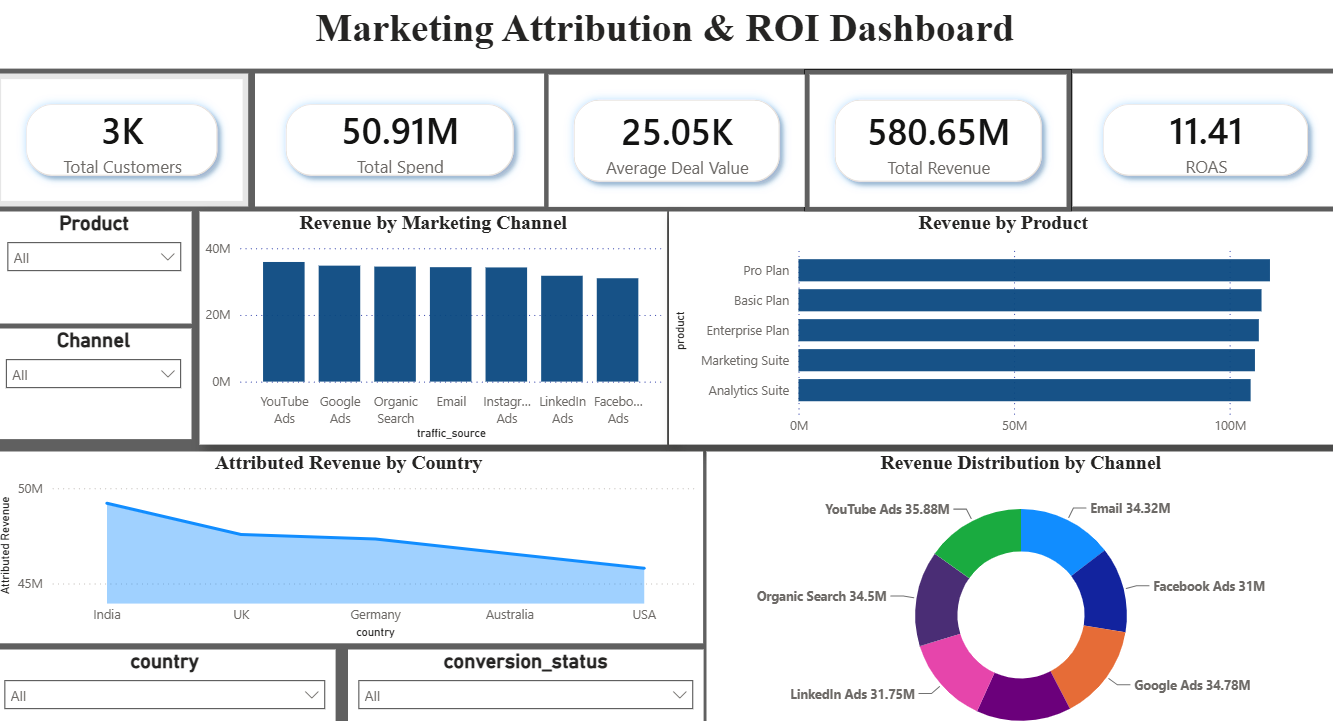

This screenshot's page, from the dashboard's own definition file:
{"tool":"powerbi","page":{"name":"Executive Dashboard","canvas":[1280,720],"ordinal":0},"visuals":[{"type":"cardVisual","title":"ROAS","fields":{"Data":["Fact_Marketing.ROAS"]},"box":[1026.7,70,253.3,126.7],"z":0},{"type":"cardVisual","fields":{"Data":["Fact_Marketing.Total Customers"]},"box":[1.7,70,240.8,126.7],"z":1000},{"type":"cardVisual","fields":{"Data":["Fact_Marketing.Total Revenue"]},"box":[771.7,65,255,136.7],"z":2000},{"type":"cardVisual","fields":{"Data":["Fact_Marketing.Total Spend"]},"box":[248.3,70,275,126.7],"z":3000},{"type":"cardVisual","fields":{"Data":["Fact_Marketing.Average Deal Value"]},"box":[523.3,65,254.2,136.7],"z":4000},{"type":"columnChart","title":"Revenue by Marketing Channel","fields":{"Category":["Fact_Marketing.traffic_source"],"Y":["Fact_Marketing.Attributed Revenue"]},"box":[195,201.7,445,221.7],"z":5000},{"type":"clusteredBarChart","title":"Revenue by Product","fields":{"Category":["dim_product.product"],"Y":["Fact_Marketing.Total Revenue"]},"box":[643.3,201.7,636.7,221.7],"z":6000},{"type":"donutChart","title":"Revenue Distribution by Channel","fields":{"Y":["Fact_Marketing.Attributed Revenue"],"Series":["Fact_Marketing.traffic_source"]},"box":[678.3,430,598.3,290],"z":7000},{"type":"areaChart","title":"Attributed Revenue by Country","fields":{"Category":["dim_country.country"],"Y":["Fact_Marketing.Attributed Revenue"]},"box":[0,430,675,182.5],"z":8000},{"type":"slicer","title":"Channel","fields":{"Values":["dim_channel.channel"]},"box":[1.7,313.3,186.7,105],"z":9000},{"type":"slicer","title":"Product","fields":{"Values":["dim_product.product"]},"box":[3.3,201.7,185,106.7],"z":10000},{"type":"slicer","title":"country","fields":{"Values":["dim_country.country"]},"box":[0,618.3,325,101.7],"z":11000},{"type":"slicer","title":"conversion_status","fields":{"Values":["crm_clean.conversion_status"]},"box":[336.7,618.3,338.3,101.7],"z":12000},{"type":"textbox","box":[1.7,0,1275,65],"z":13000}]}

Visuals, with their boxes on the page's 1280x720 design canvas (x1, y1, x2, y2). These are canvas units, not pixel positions in the 1333x721 screenshot, which may show the page scaled, cropped or inside an application window:
"ROAS" cardVisual: select_region(1027, 70, 1280, 197)
cardVisual - Fact_Marketing.Total Customers: select_region(2, 70, 242, 197)
cardVisual - Fact_Marketing.Total Revenue: select_region(772, 65, 1027, 202)
cardVisual - Fact_Marketing.Total Spend: select_region(248, 70, 523, 197)
cardVisual - Fact_Marketing.Average Deal Value: select_region(523, 65, 778, 202)
"Revenue by Marketing Channel" columnChart: select_region(195, 202, 640, 423)
"Revenue by Product" clusteredBarChart: select_region(643, 202, 1280, 423)
"Revenue Distribution by Channel" donutChart: select_region(678, 430, 1277, 720)
"Attributed Revenue by Country" areaChart: select_region(0, 430, 675, 612)
"Channel" slicer: select_region(2, 313, 188, 418)
"Product" slicer: select_region(3, 202, 188, 308)
"country" slicer: select_region(0, 618, 325, 720)
"conversion_status" slicer: select_region(337, 618, 675, 720)
textbox: select_region(2, 0, 1277, 65)
